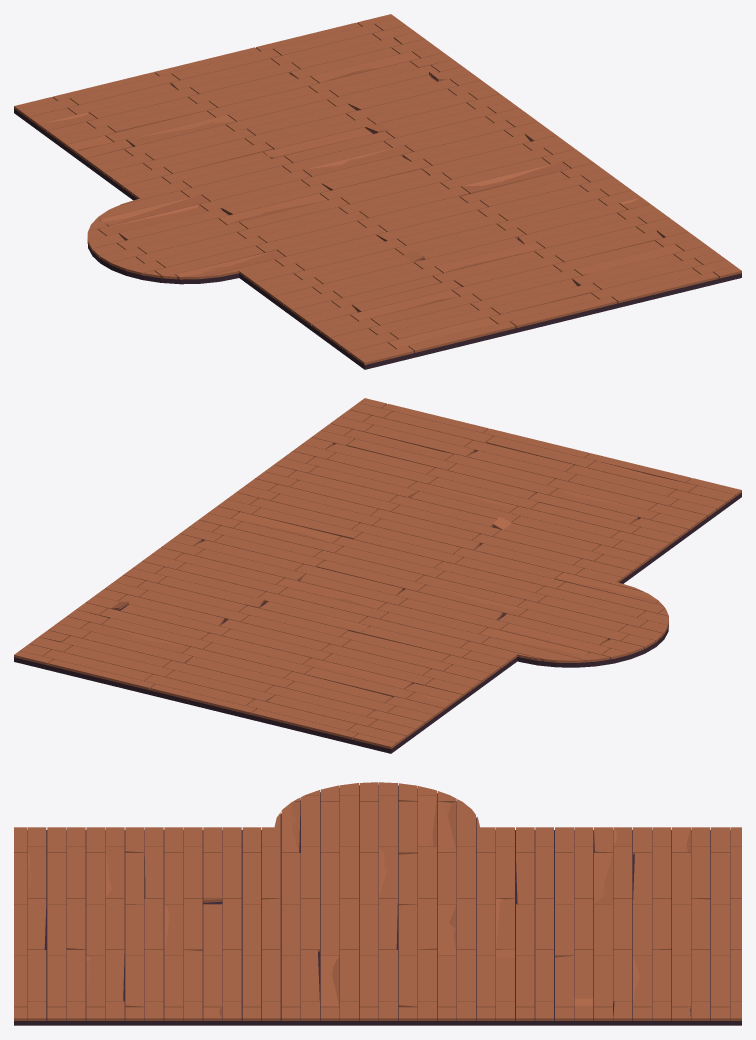
File: chão.fbx
3 renders of one model, top to bottom at view 1: azimuth 30°, elevation 25°; view 2: azimuth 150°, elevation 25°; view 3: azimuth 270°, elevation 25°, orthographic. The views are drawn at different scales.
Visible parts, largest first — view 1: Plane.082; view 2: Plane.082; view 3: Plane.082.
Boxes of the visible parts, bbox=[...] form: Plane.082: bbox=[14, 14, 741, 369]; Plane.082: bbox=[14, 398, 741, 753]; Plane.082: bbox=[14, 782, 741, 1025].
Bounding box in the file's own units: 49.84 × 1.07 × 64.91.
